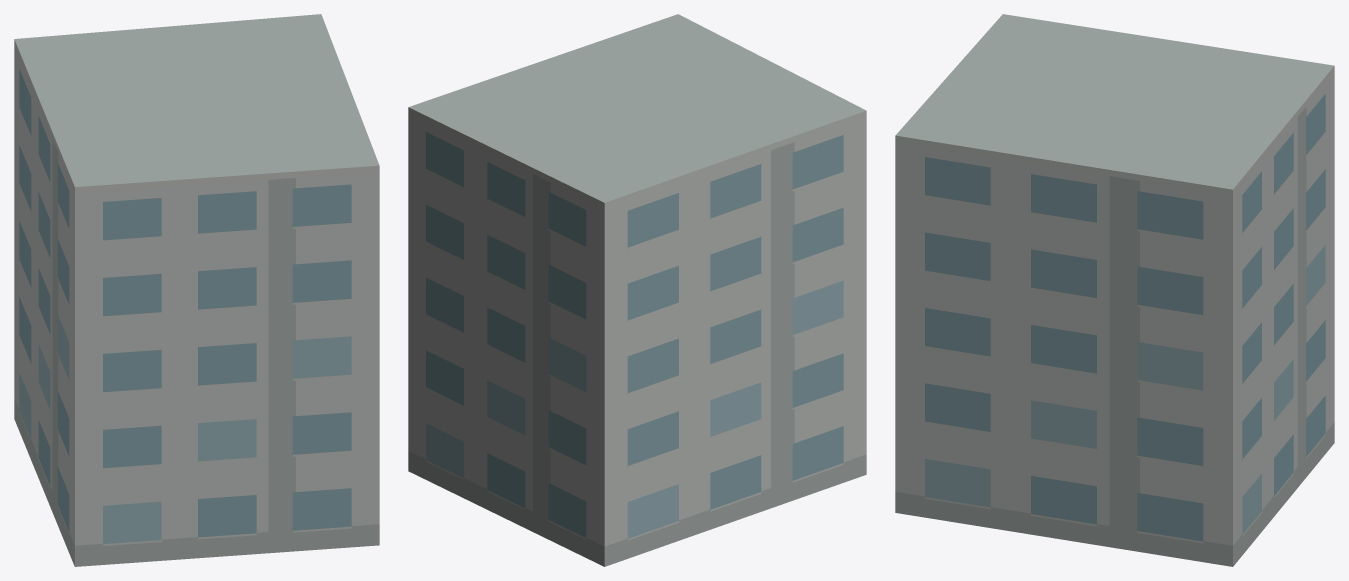
File: survey-upis-32891719.glb
3 views of the same model, side by side, from view 1: azimuth 30°, elevation 25°; view 2: azimuth 150°, elevation 25°; view 3: azimuth 270°, elevation 25° (orthographic). The views are drawn at different scales.
Visible parts, largest first — view 1: survey-upis-32891719.tmp; view 2: survey-upis-32891719.tmp; view 3: survey-upis-32891719.tmp.
Boxes of the visible parts, <box> form: survey-upis-32891719.tmp: <box>14,14,379,566</box>; survey-upis-32891719.tmp: <box>408,14,866,566</box>; survey-upis-32891719.tmp: <box>895,14,1334,566</box>.
Bounding box in the file's own units: 14.54 × 14.56 × 15.37.
